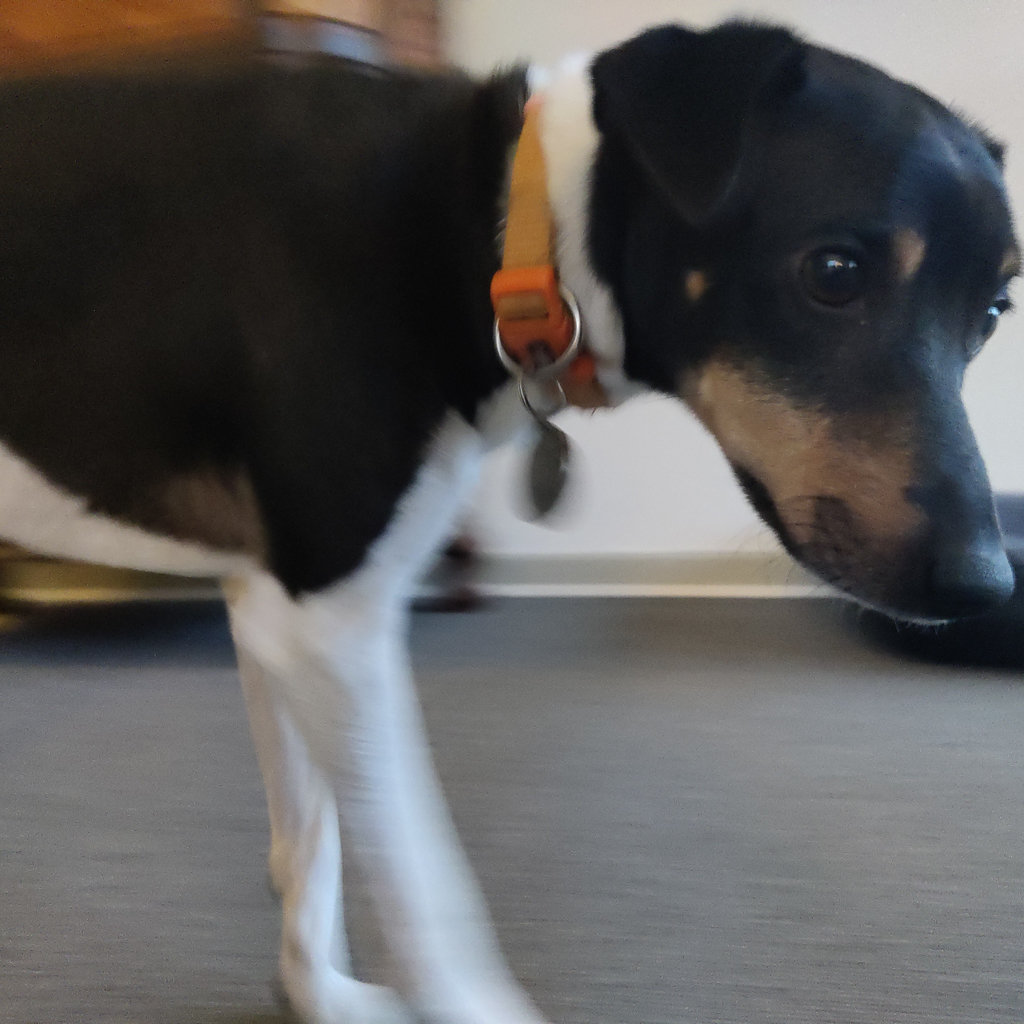Dog: (0, 9, 1024, 1024)
